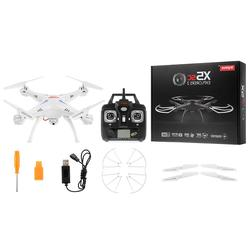drone: (1, 74, 103, 145), (155, 90, 236, 125)
